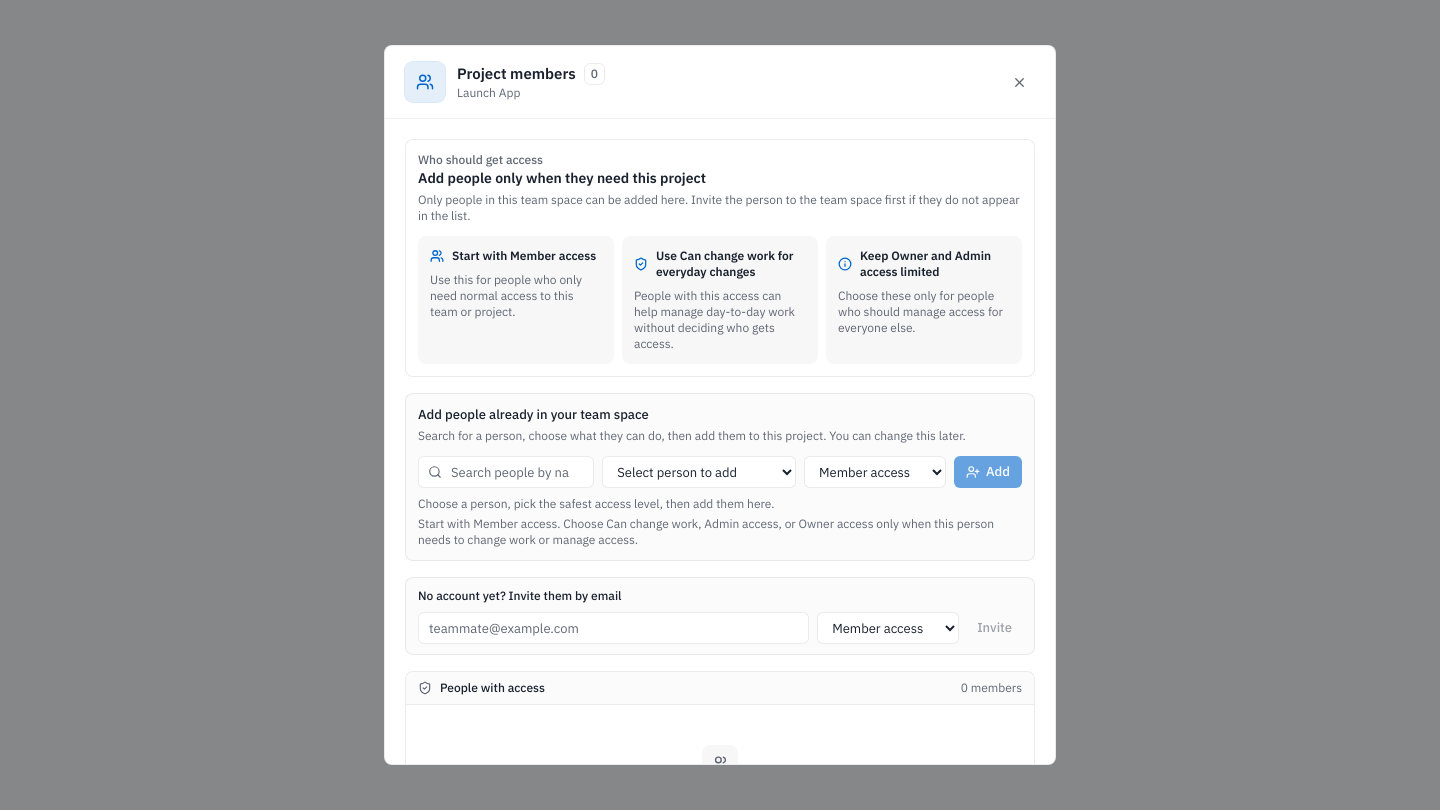
Test: ResourceMembersModal › shows recovery guidance when the selected project changes before adding a member
Select "builder (builder@example.com)" in the dropdown named "Select person to add" at (699, 472), box [602,456,796,488]
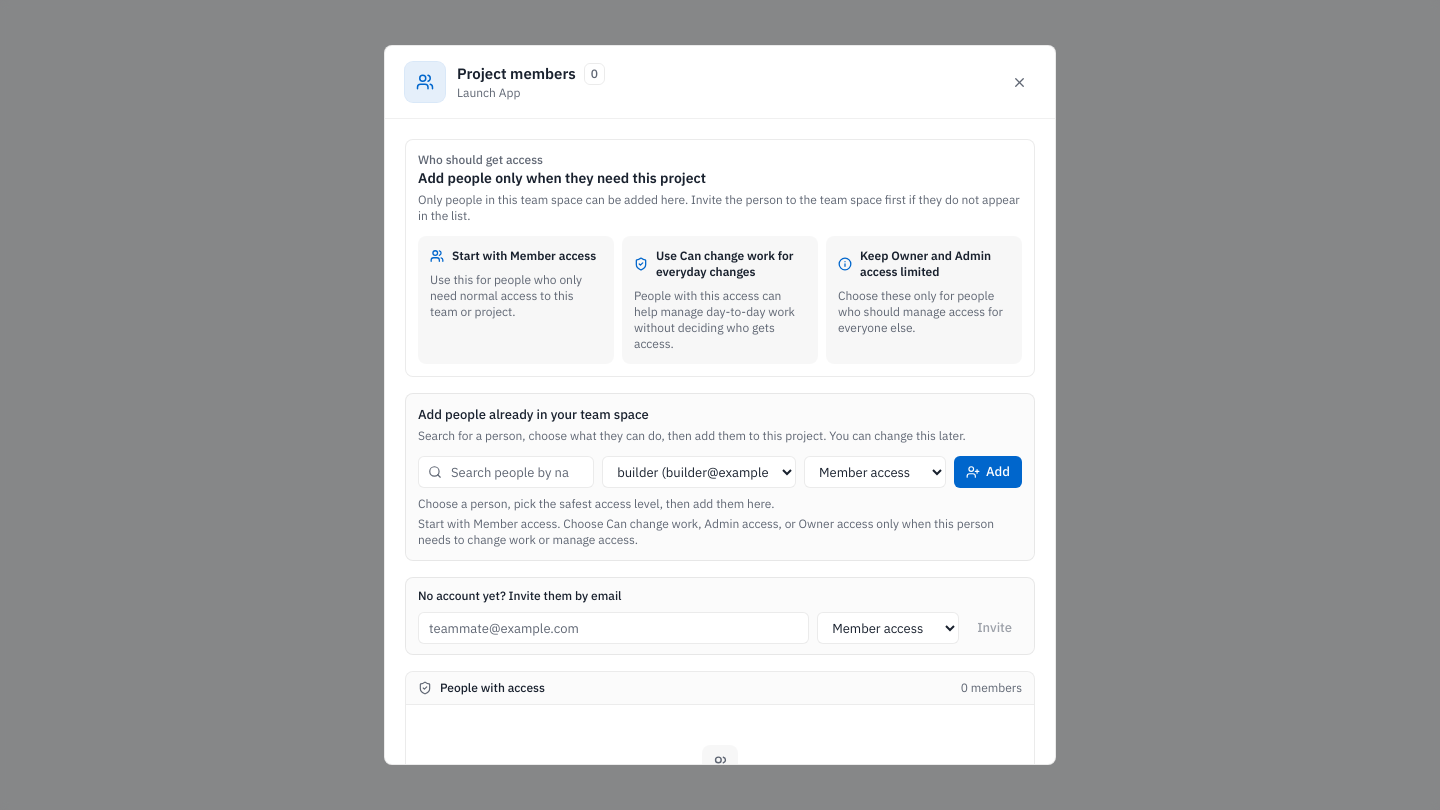
Click the button "Add" at (988, 472), box [954,456,1022,488]
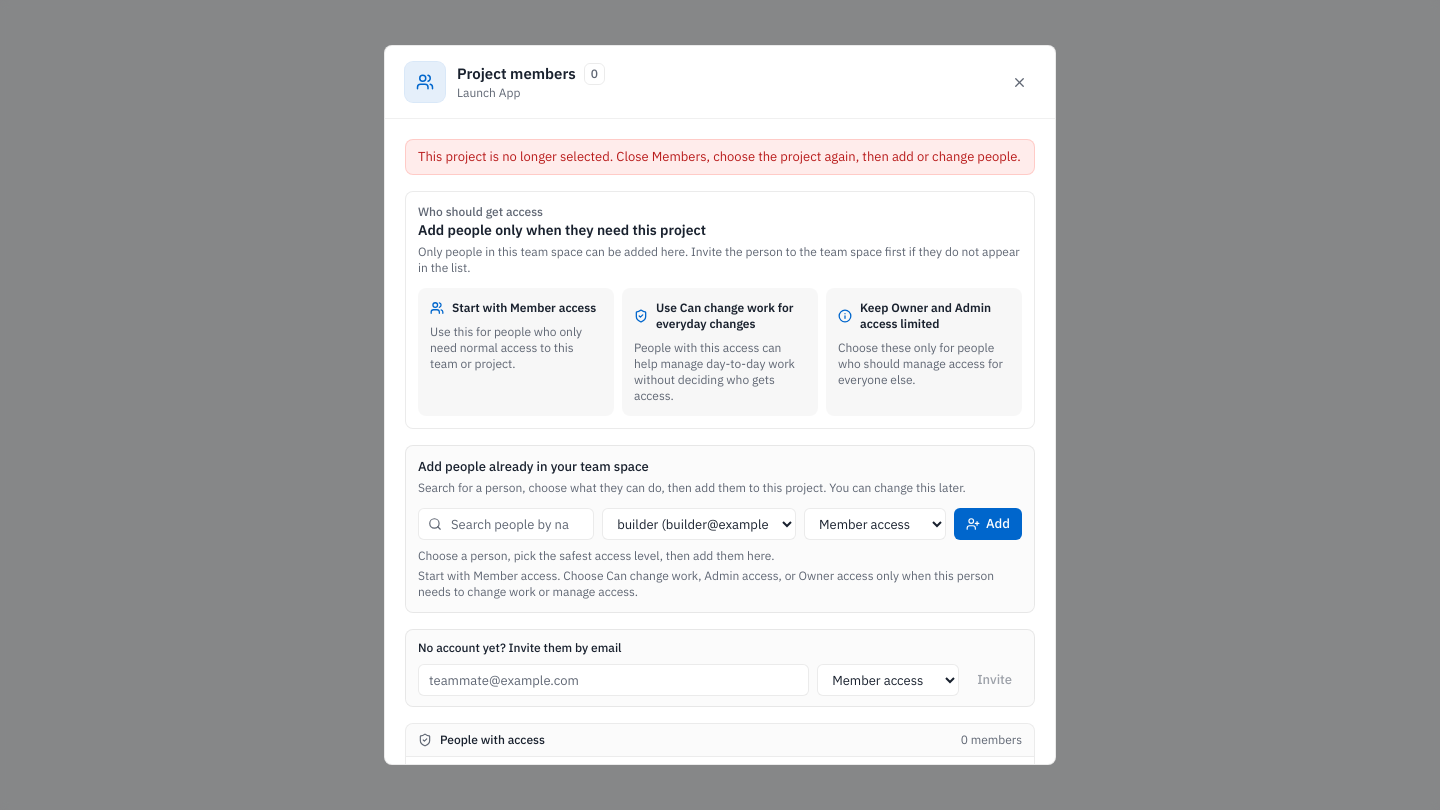
Expected: the 1st message shows "This project is no longer selected", [418,148,1021,165]
Expected: the 1st message shows "choose the project again", [418,148,1021,165]
